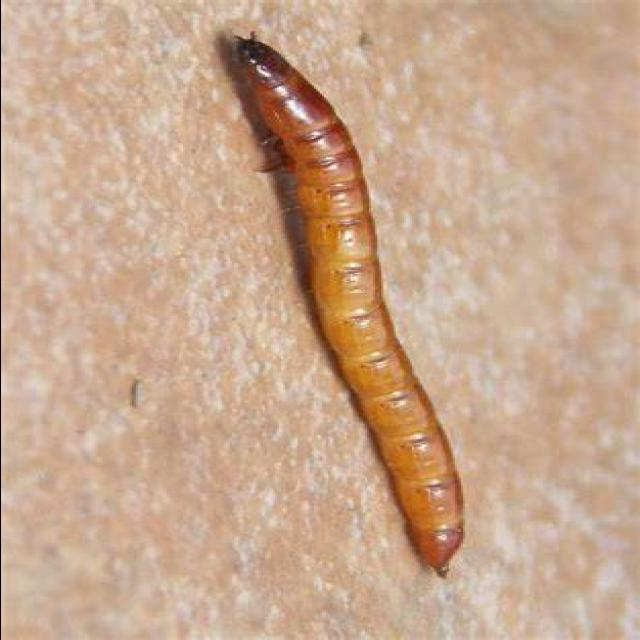wireworm: (210, 28, 478, 582)
